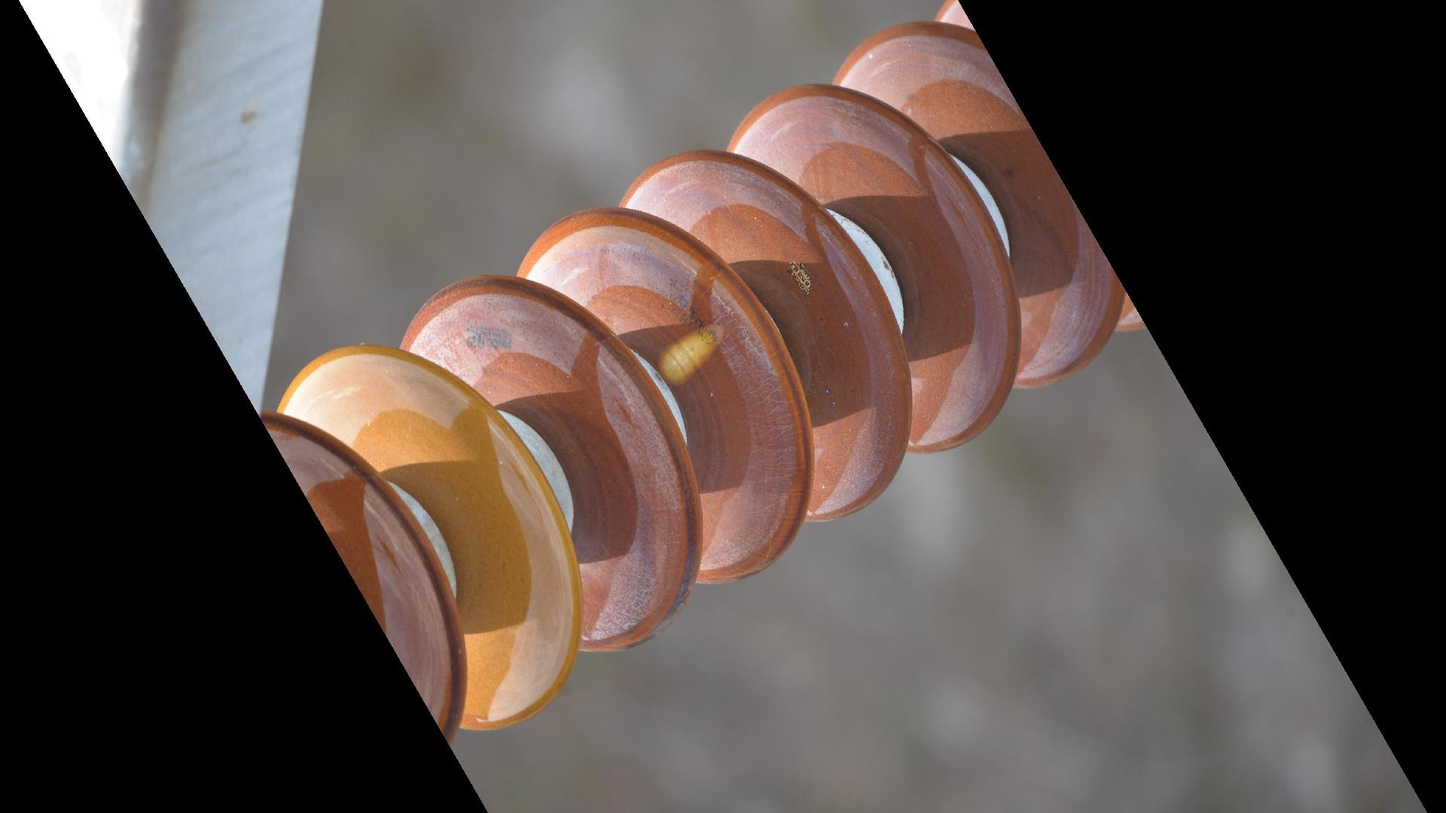insulator: (255, 1, 1152, 746)
insulator_flashover: (654, 315, 730, 385)
